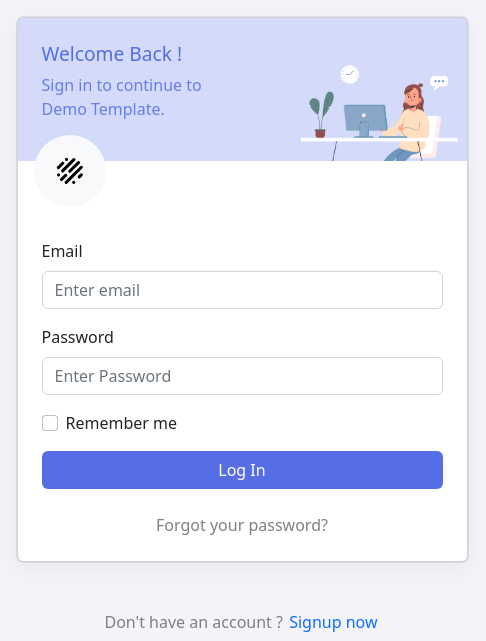
Test case: Auth pages testing › Input field is empty
Expected: the field with placeholder "Enter email" is shown, [42, 271, 442, 309]
Expected: the password field with placeholder "Enter Password" is shown, [42, 357, 442, 395]
Click the button with class "login-btn" at (243, 470), box [42, 451, 443, 489]
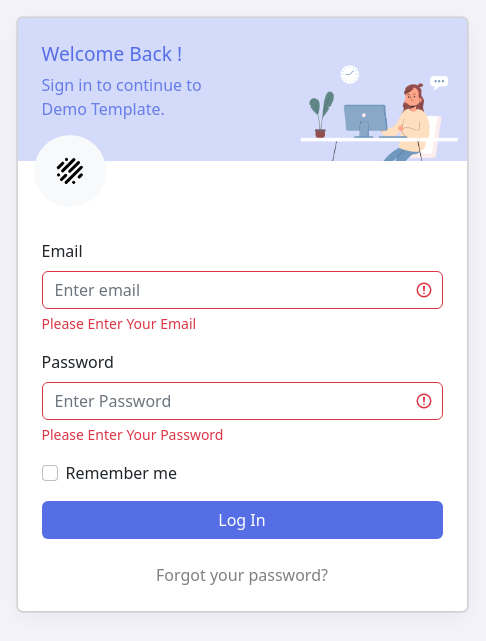
Now the text "Please Enter Your Email" is shown, box [42, 314, 196, 333]
Now the text "Please Enter Your Password" is shown, box [42, 425, 224, 444]
